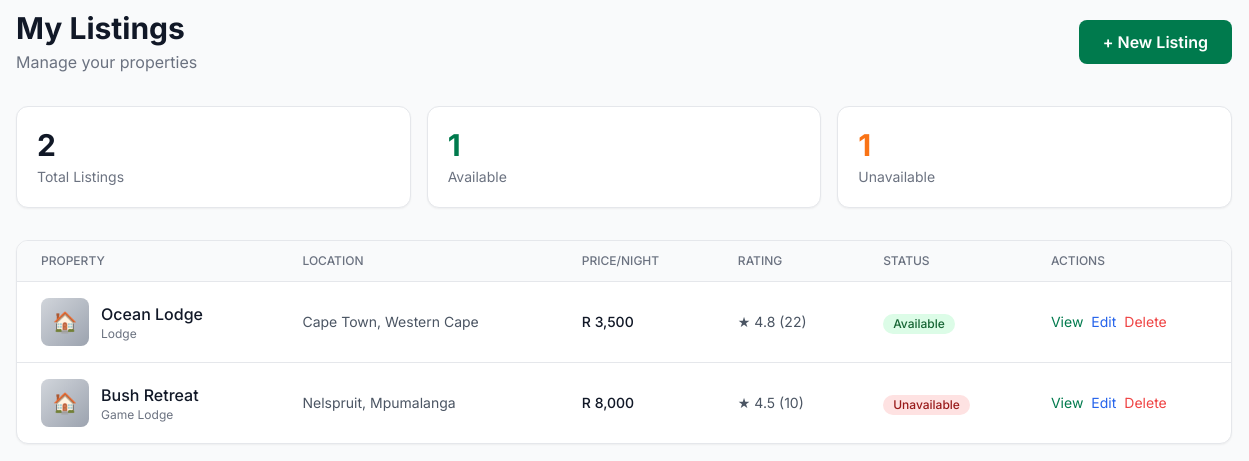
Test: HostListingsPage › should delete listing after confirmation and remove from list
Check: the text "Ocean Lodge" is shown, box [101,302,203,326]
Click the button "Delete" in the row of "Ocean Lodge" at (1146, 322), box [1124,312,1167,332]
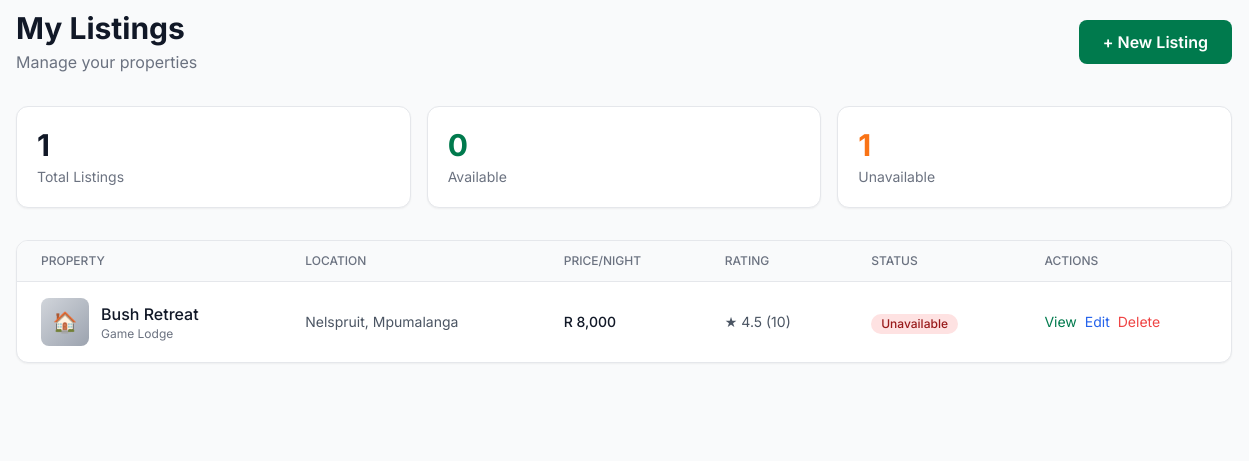
Check: the text "Ocean Lodge" is gone
